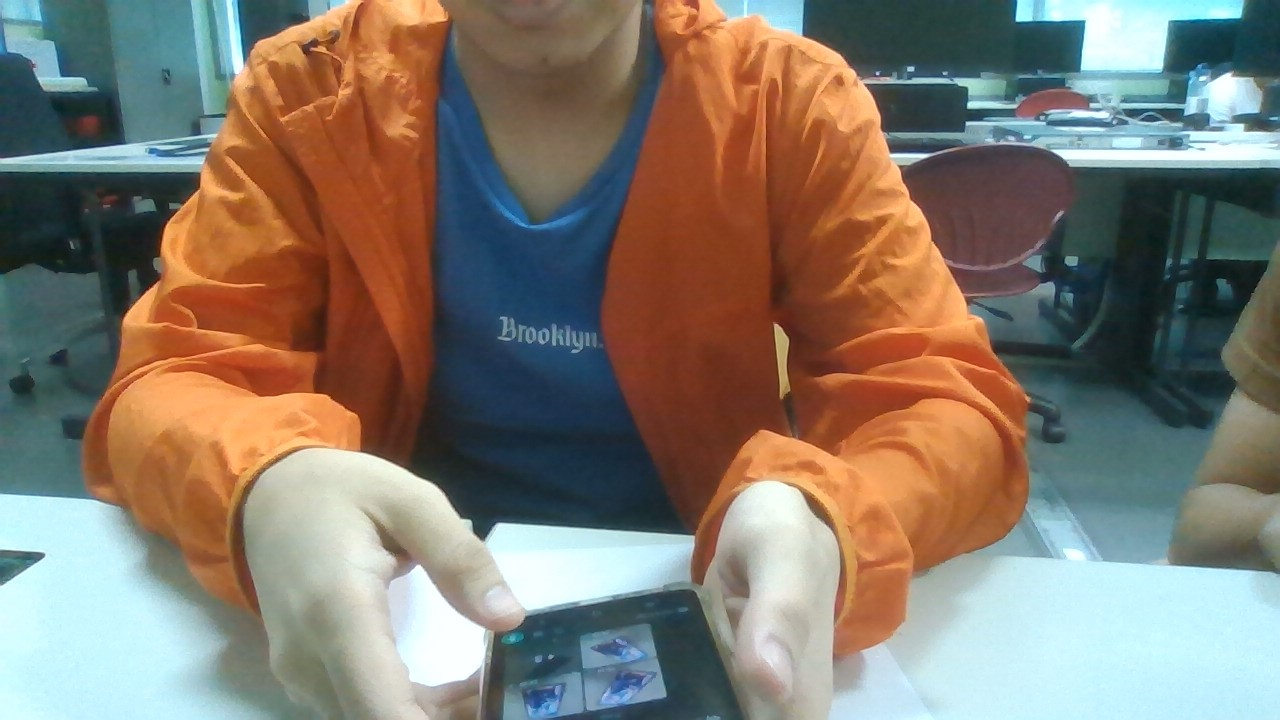phone: (481, 582, 761, 720)
